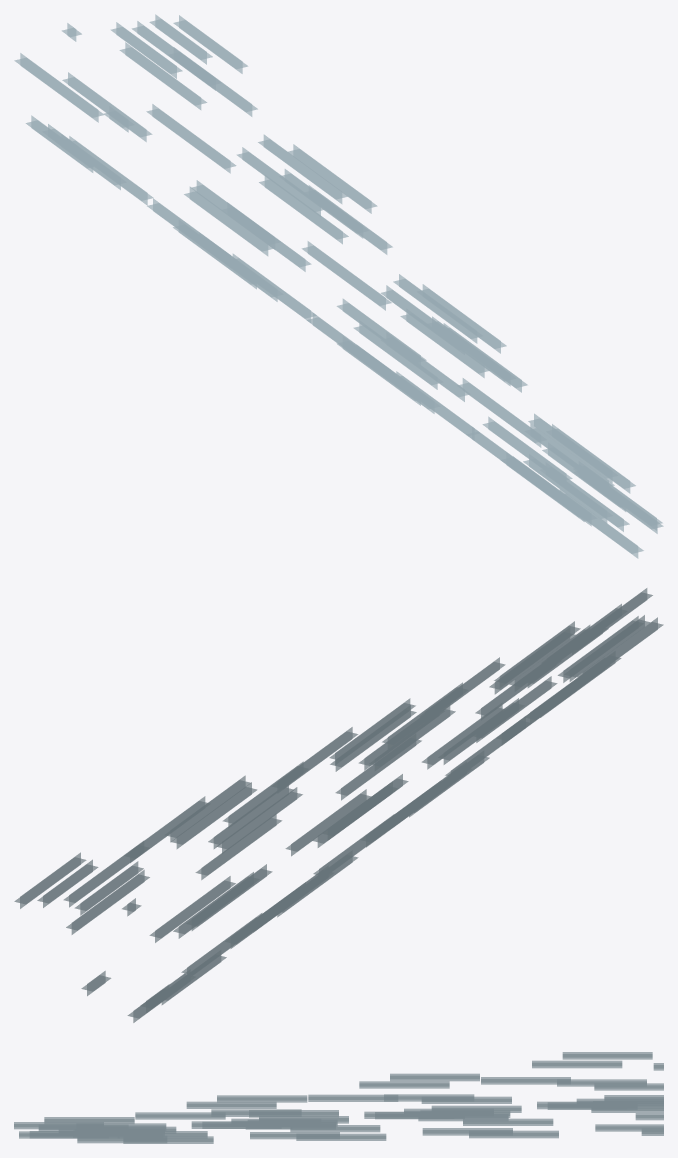
File: wp_water_321.obj
3 views of the same model, one above another, from view 1: azimuth 30°, elevation 25°; view 2: azimuth 150°, elevation 25°; view 3: azimuth 270°, elevation 25° (orthographic). The views are drawn at different scales.
Size of the model in its own units: 0.3201 by 0.2592 by 1.73.
1 material, 1 textured.
